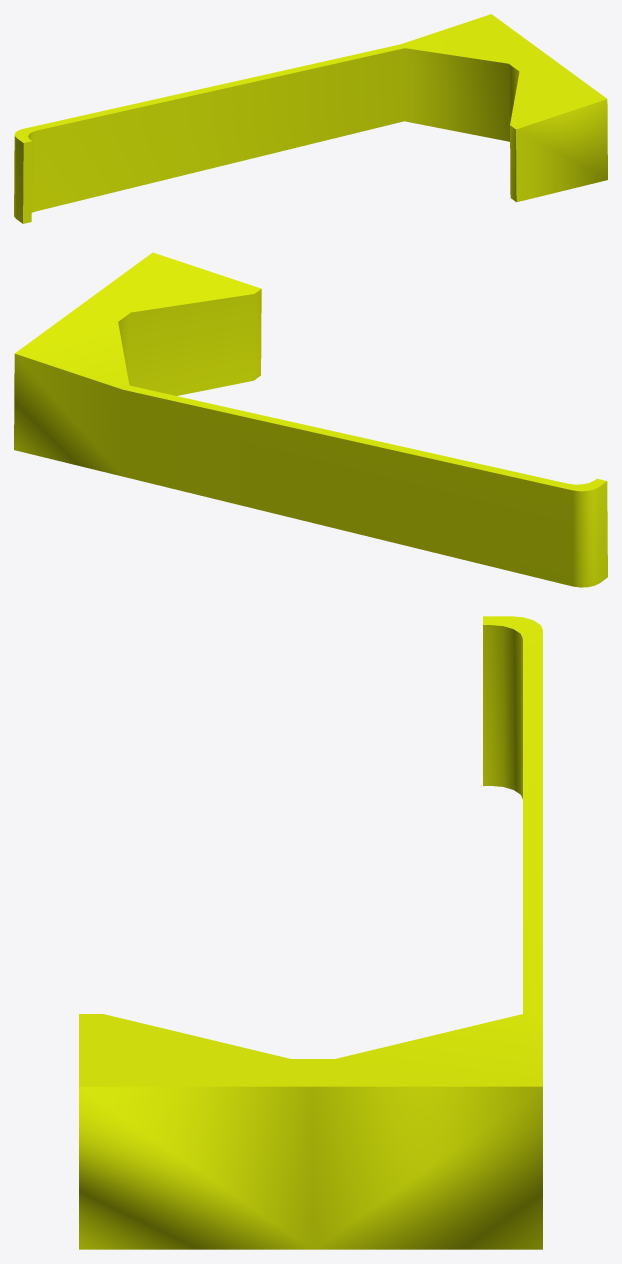
File: Walls_Collision.fbx
The picture shows the model from 3 angles, top to bottom: view 1: azimuth 30°, elevation 25°; view 2: azimuth 150°, elevation 25°; view 3: azimuth 270°, elevation 25°; orthographic projection. The views are drawn at different scales.
Parts seen in each view (by area): view 1: Walls_Collision; view 2: Walls_Collision; view 3: Walls_Collision.
Boxes of the visible parts, x1,y1,x2,y2 form: Walls_Collision: (14, 14, 607, 223); Walls_Collision: (14, 252, 607, 587); Walls_Collision: (79, 616, 542, 1249).
Bounding box in the file's own units: 3.34 × 0.5367 × 1.39.
